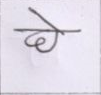e_matra: (29, 7, 60, 29)
